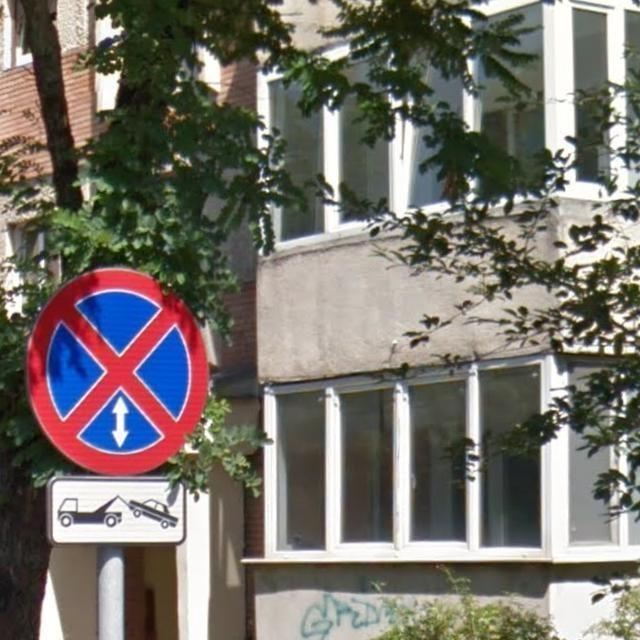forb_waiting: (23, 266, 209, 474)
